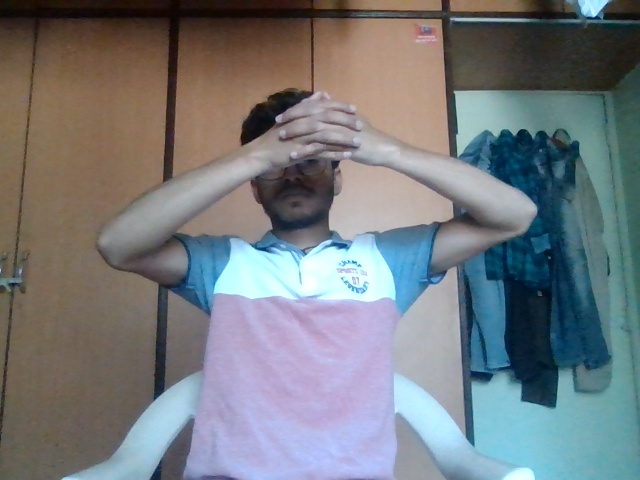good: (261, 90, 388, 183)
